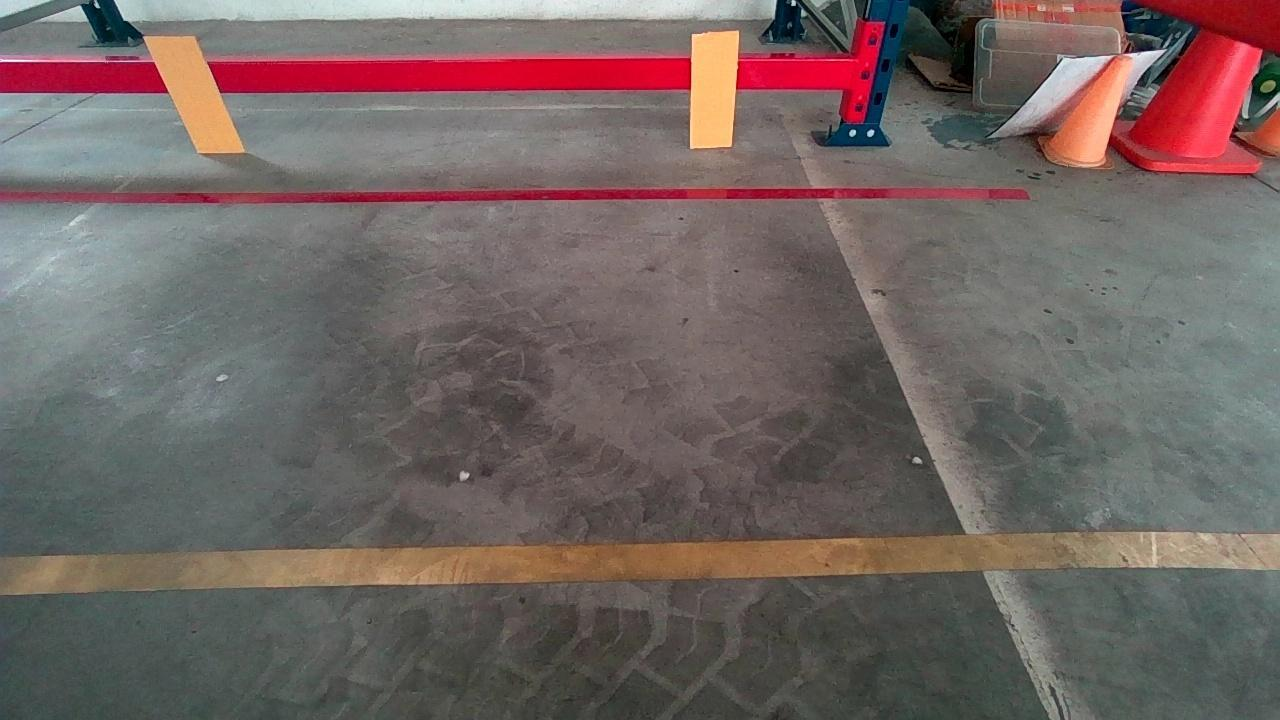h_rack: (0, 48, 852, 98)
orange_strip: (145, 36, 244, 150), (690, 32, 738, 147)
red_line: (1, 180, 1027, 206)
yellow_line: (0, 529, 1272, 594)
